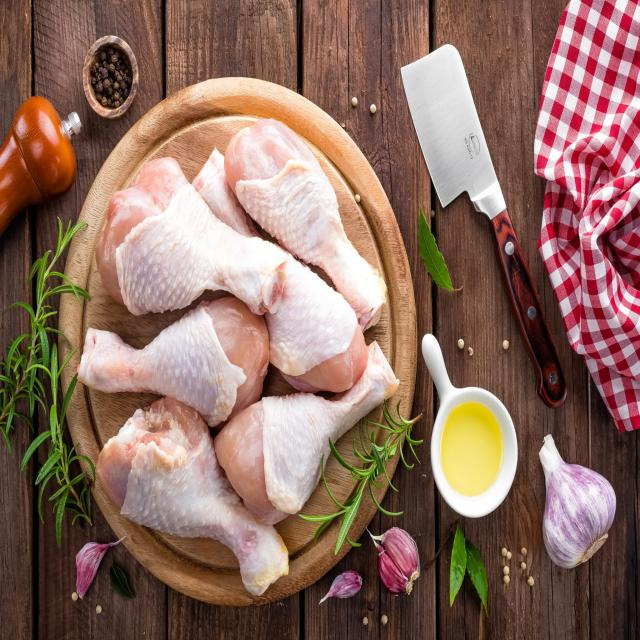Chicken: (95, 397, 293, 601), (214, 340, 397, 532), (227, 116, 390, 327), (92, 156, 288, 318), (76, 281, 272, 418)
